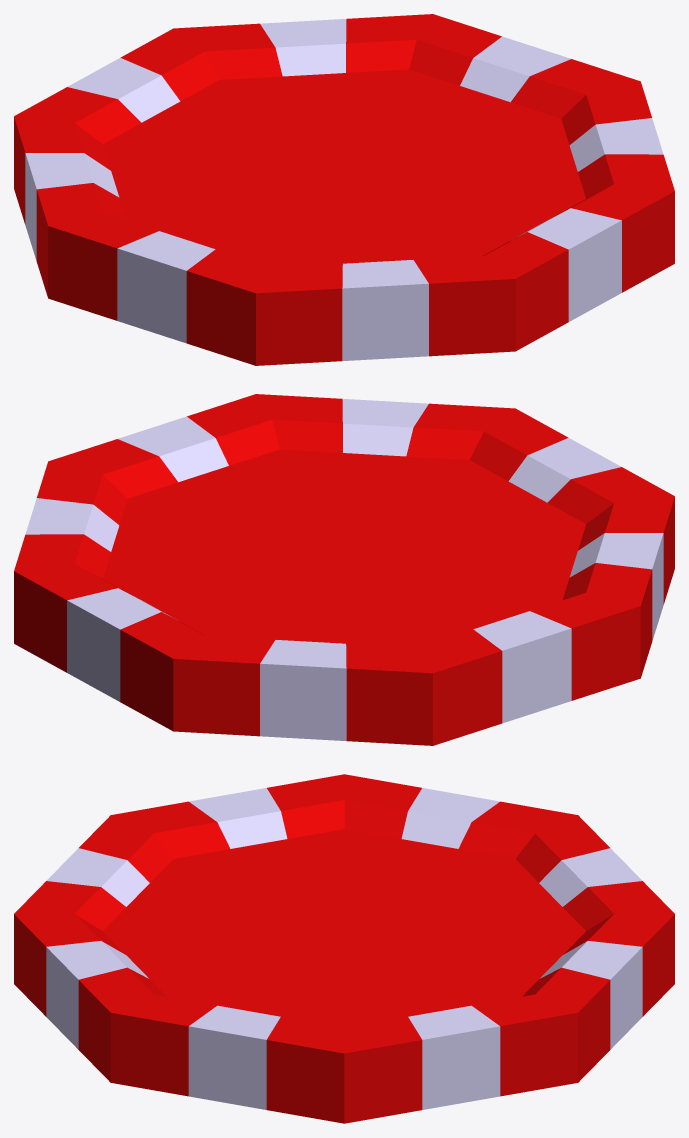
File: Chips.fbx
3 views of the same model, one above another, from view 1: azimuth 30°, elevation 25°; view 2: azimuth 150°, elevation 25°; view 3: azimuth 270°, elevation 25° (orthographic). The views are drawn at different scales.
Visible parts, largest first — view 1: Cylinder; view 2: Cylinder; view 3: Cylinder.
Part boxes in pixels (x1,y1,x2,y2): Cylinder: [14, 14, 674, 365]; Cylinder: [14, 394, 674, 745]; Cylinder: [14, 774, 674, 1123].
Size of the model in its own units: 2 by 0.2342 by 2.
